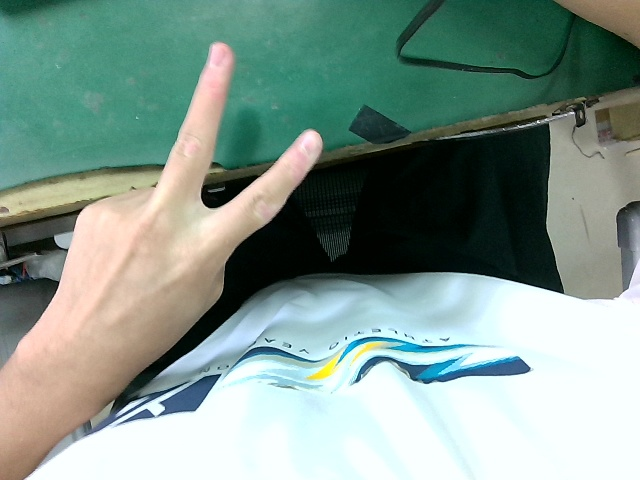scissor: (45, 39, 324, 369)
